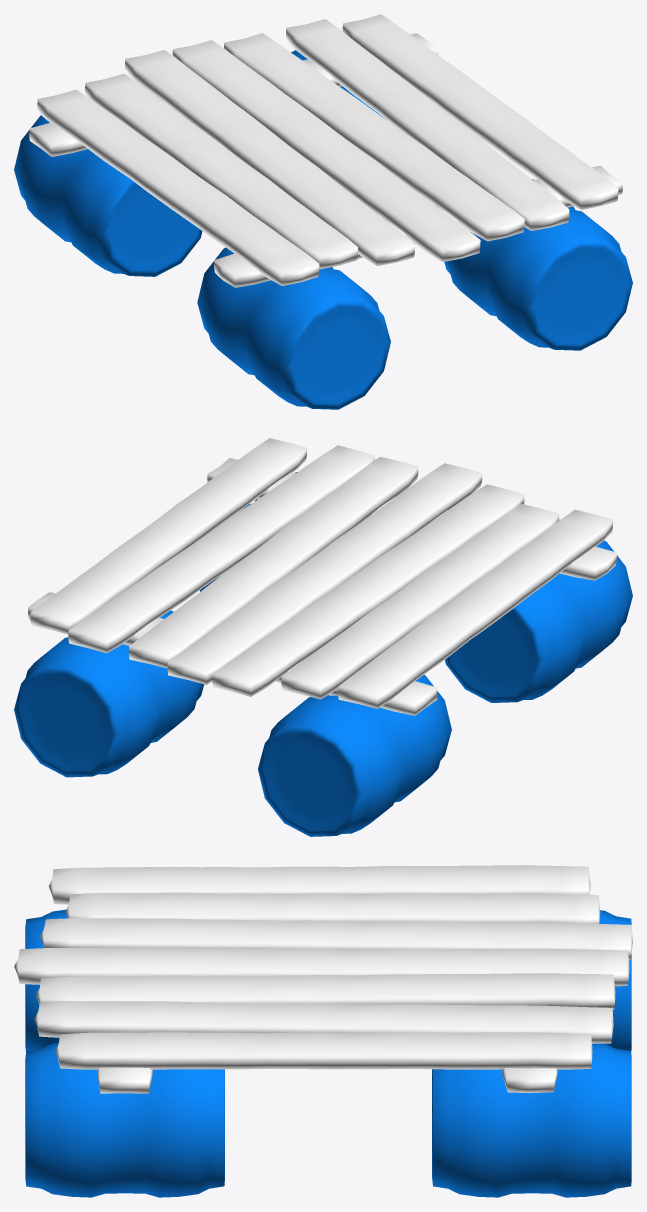
File: Raft_low2.fbx
The picture shows the model from 3 angles, top to bottom: view 1: azimuth 30°, elevation 25°; view 2: azimuth 150°, elevation 25°; view 3: azimuth 270°, elevation 25°; orthographic projection. The views are drawn at different scales.
Parts seen in each view (by area): view 1: BarrelUV6; view 2: BarrelUV6; view 3: BarrelUV6.
Part boxes in pixels (x1,y1,x2,y2): BarrelUV6: (14,14,632,409); BarrelUV6: (14,438,632,836); BarrelUV6: (14,865,632,1197).
Size of the model in its own units: 236 by 86.05 by 289.
